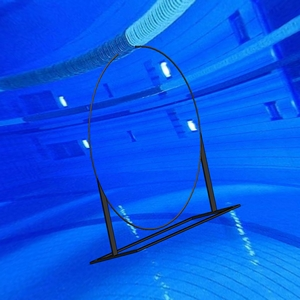circle: (87, 44, 243, 265)
